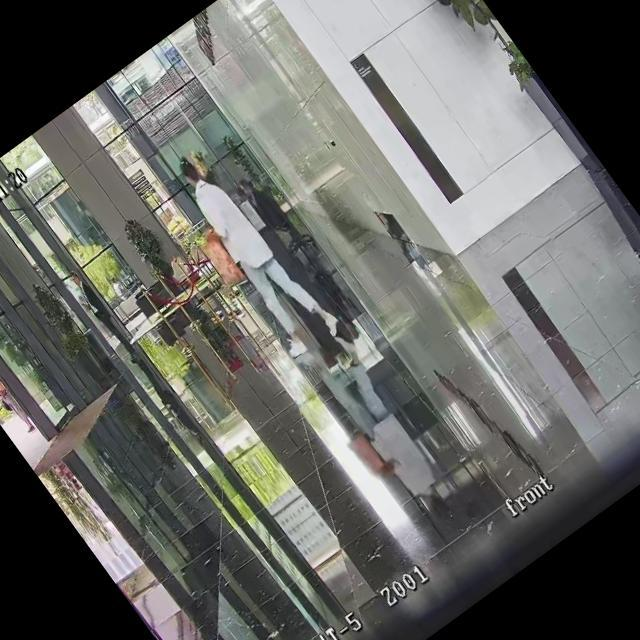person: (161, 138, 346, 364), (62, 266, 142, 367), (235, 172, 288, 236), (0, 365, 36, 435), (107, 272, 133, 300)
